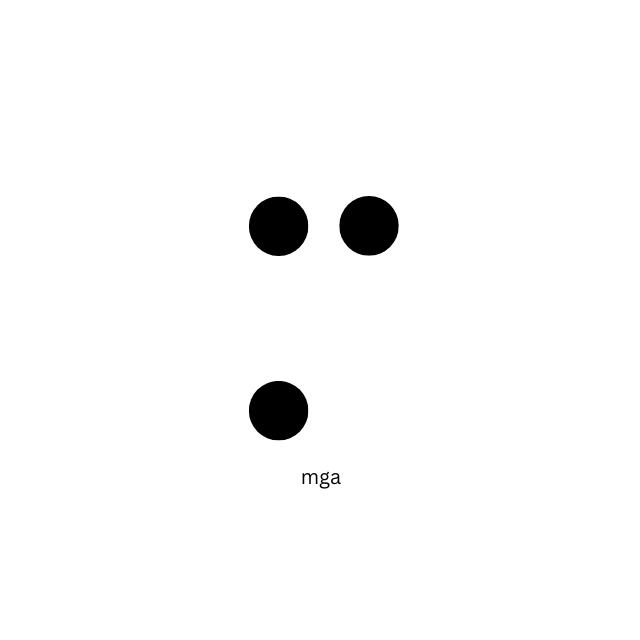one_cell_alphabet_mga: (247, 190, 402, 443)
